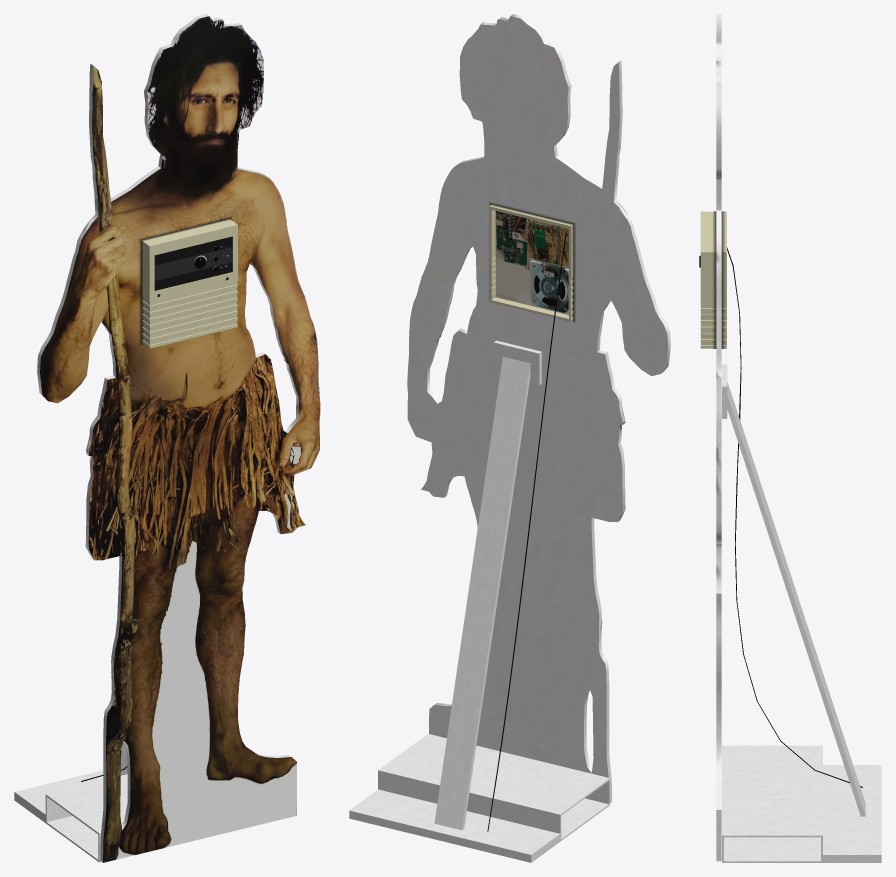
Rendered from backrooms_movie_caveman_cutout.glb.
3 views of the same model, side by side, from view 1: azimuth 30°, elevation 25°; view 2: azimuth 150°, elevation 25°; view 3: azimuth 270°, elevation 25° (orthographic). The views are drawn at different scales.
Visible parts, largest first — view 1: caveman_boolean_1, Cube.003_3, Cube.002_0, Cube_8; view 2: caveman_boolean_1, Cube.002_0, Plane_6, Cube.003_3, object 3; view 3: Cube.002_0, caveman_boolean_1, Cube.003_3, Cube.005_9, object 3.
Part boxes in pixels (left/top/right/bottom): caveman_boolean_1: left=37, top=14, right=320, bottom=862; Cube.003_3: left=141, top=219, right=237, bottom=348; Cube.002_0: left=14, top=742, right=127, bottom=862; Cube_8: left=154, top=236, right=232, bottom=290; caveman_boolean_1: left=407, top=14, right=670, bottom=802; Cube.002_0: left=349, top=340, right=610, bottom=862; Plane_6: left=495, top=211, right=568, bottom=314; Cube.003_3: left=489, top=204, right=573, bottom=321; object 3: left=487, top=232, right=566, bottom=831; Cube.002_0: left=722, top=364, right=881, bottom=862; caveman_boolean_1: left=716, top=14, right=721, bottom=861; Cube.003_3: left=700, top=211, right=726, bottom=348; Cube.005_9: left=713, top=211, right=724, bottom=348; object 3: left=727, top=247, right=862, bottom=787.
Bounding box in the file's own units: 26.42 × 74.06 × 15.78.
9 materials, 7 textured.
